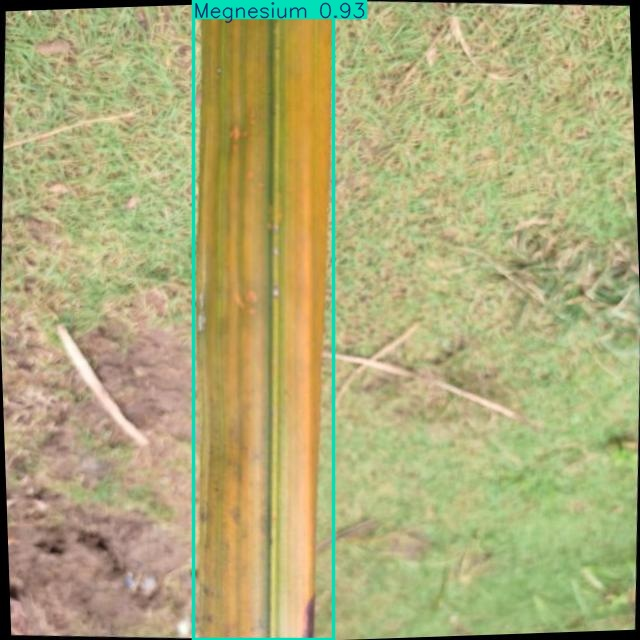Megnesium: (193, 0, 333, 639)
